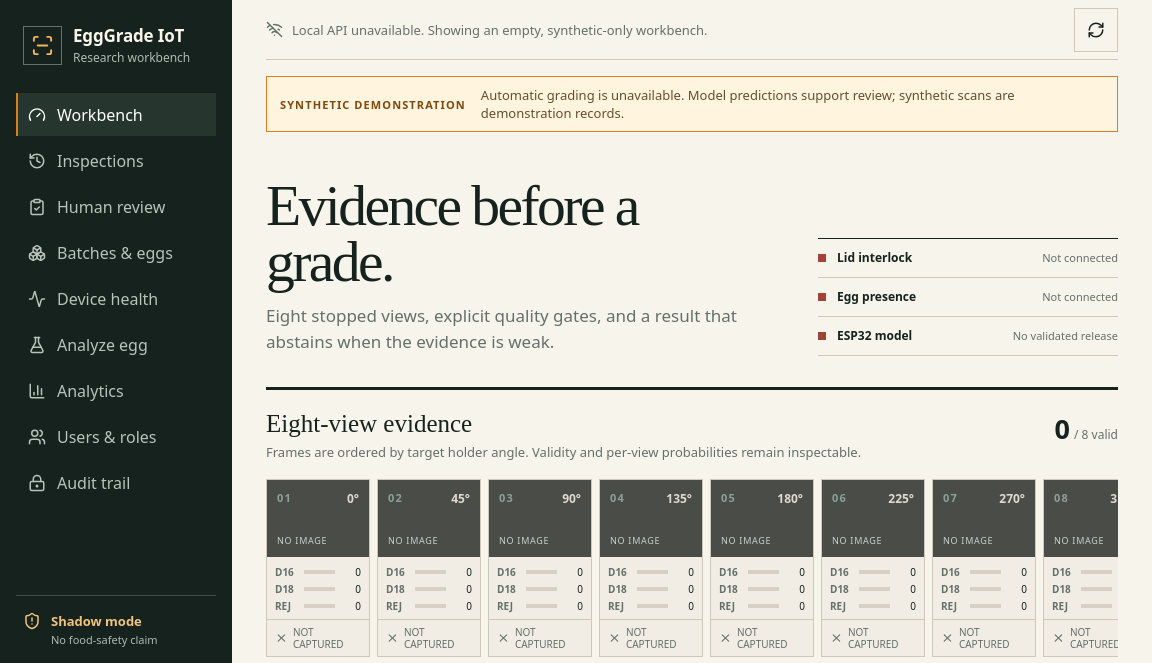
Test: EggGrade IoT evidence workbench › makes unsupported model activation visibly blocked
Click the button "Analyze egg".
click(116, 344)  # box [16,323,216,366]
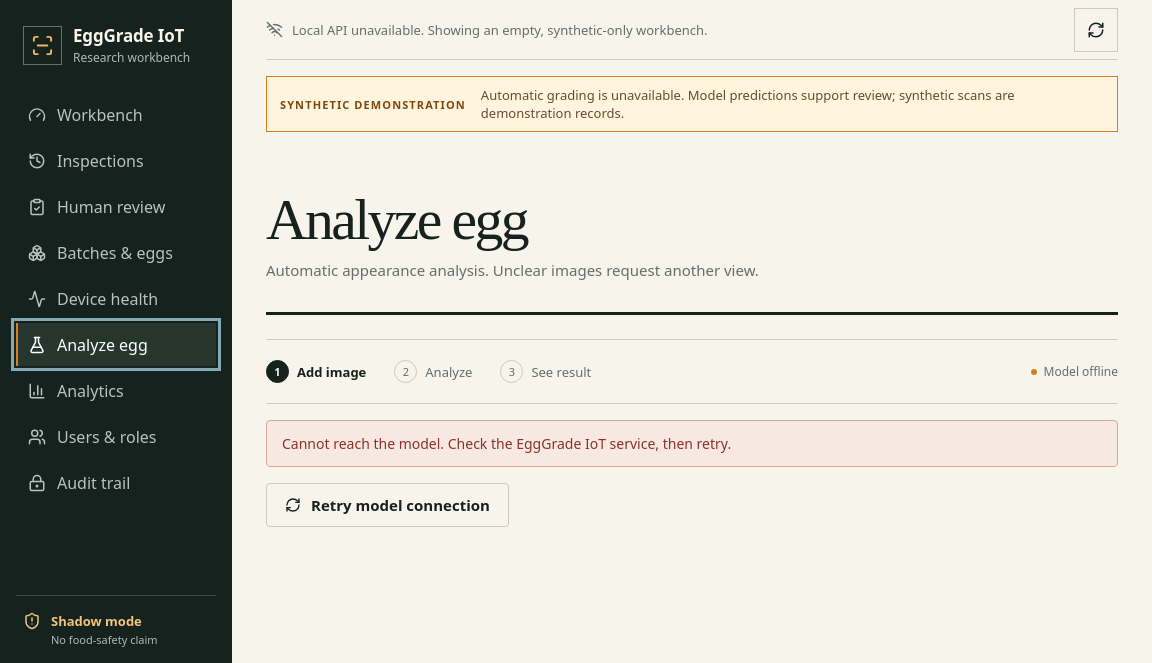
Expected: the text "Unclear images request another view" is shown, [266,260,759,280]
Expected: the button "Retry model connection" is shown, [266,483,509,527]
